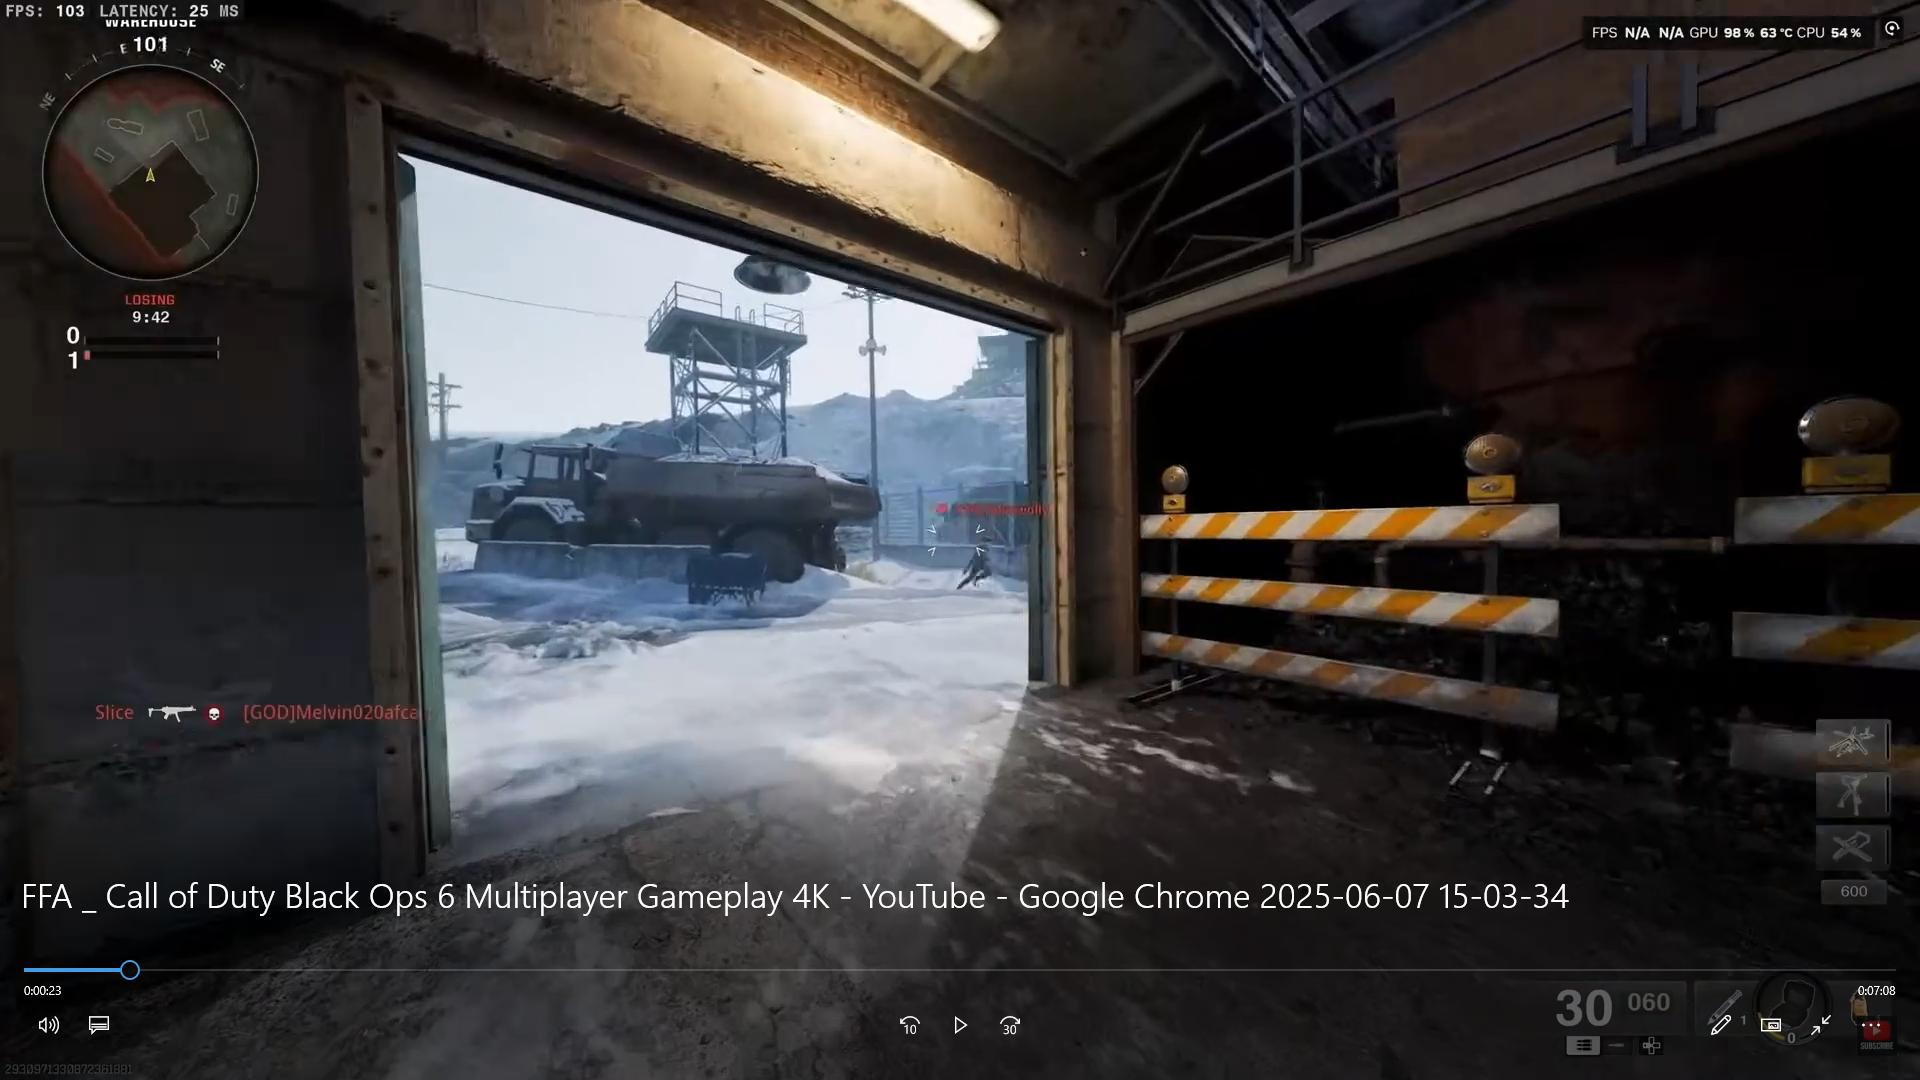Enemy: (964, 529, 1000, 596)
